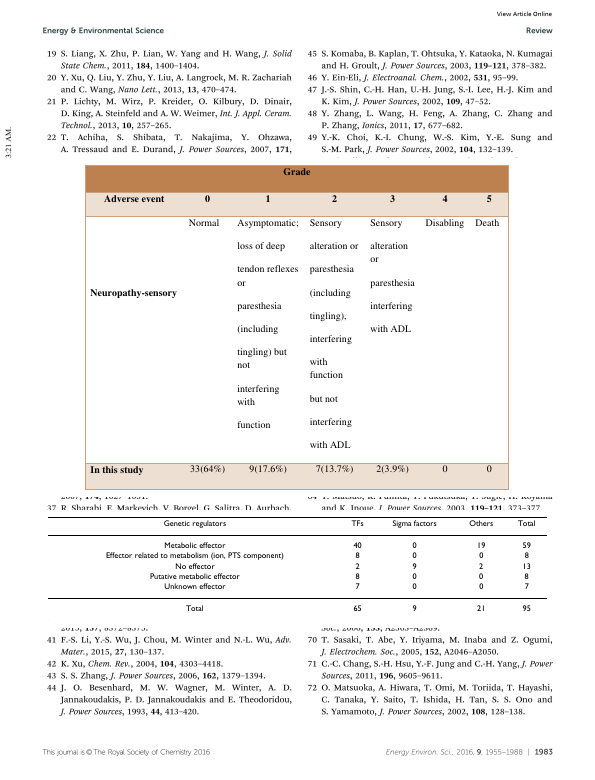bordered: (84, 164, 508, 489)
borderless: (46, 515, 548, 622)
cell: (236, 216, 300, 431), (309, 216, 359, 451), (369, 216, 416, 335), (104, 552, 284, 562), (89, 285, 178, 299), (148, 572, 240, 582), (103, 191, 165, 205), (89, 462, 145, 475), (162, 519, 227, 529), (163, 542, 226, 551), (163, 583, 226, 592), (425, 216, 465, 229), (248, 462, 288, 475), (315, 462, 354, 475), (189, 462, 226, 475), (391, 519, 437, 529), (375, 462, 410, 475), (188, 216, 220, 229), (174, 562, 215, 572), (282, 164, 311, 178), (474, 216, 500, 229), (468, 519, 494, 529), (516, 519, 536, 529), (185, 605, 204, 615), (350, 519, 364, 529), (521, 562, 531, 572), (352, 605, 362, 615), (476, 605, 486, 615), (521, 605, 531, 615), (204, 191, 211, 205), (265, 191, 272, 205), (331, 191, 338, 205), (389, 191, 396, 205), (441, 191, 448, 205), (486, 191, 493, 205), (441, 462, 448, 475), (486, 462, 493, 475), (352, 542, 362, 551), (476, 542, 486, 551), (521, 542, 531, 551), (354, 552, 360, 562), (411, 552, 417, 562), (478, 552, 484, 562), (523, 552, 529, 562), (354, 562, 360, 572), (411, 562, 417, 572), (478, 562, 484, 572), (354, 572, 360, 582), (411, 572, 417, 582), (478, 572, 484, 582), (523, 572, 529, 582), (411, 605, 417, 615), (411, 542, 417, 551), (354, 583, 360, 592), (411, 583, 417, 592), (478, 583, 484, 592), (523, 583, 529, 592)
